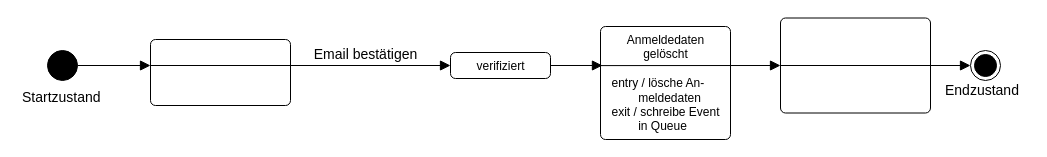
Image size: 1047x157. Some labels were removed from this diagram. Here are the shapes that lost their labels. From the top down, the centre of each, then its label:
At point (220, 72): "regestriert entry / Eingabe der Anmeldedaten".
At point (855, 65): "Benutzerdaten gelöscht entry / lösche alle übrigen benutzergenerierten Daten".
